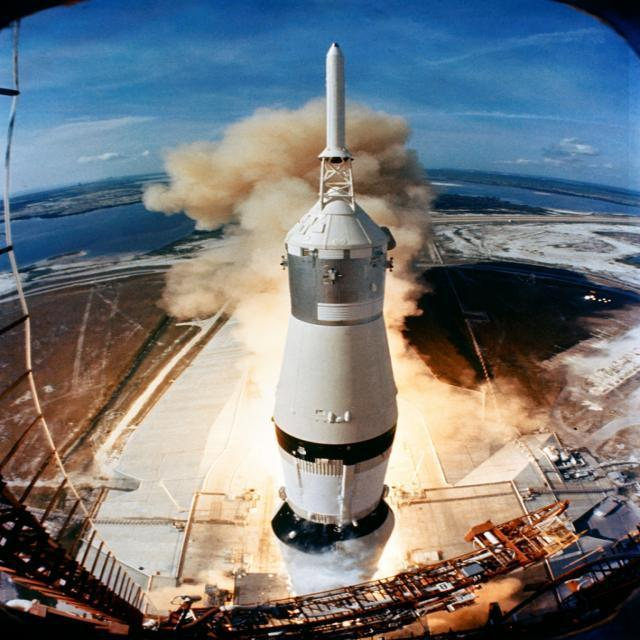missile: (266, 42, 392, 610), (274, 188, 407, 582), (319, 27, 354, 166)
